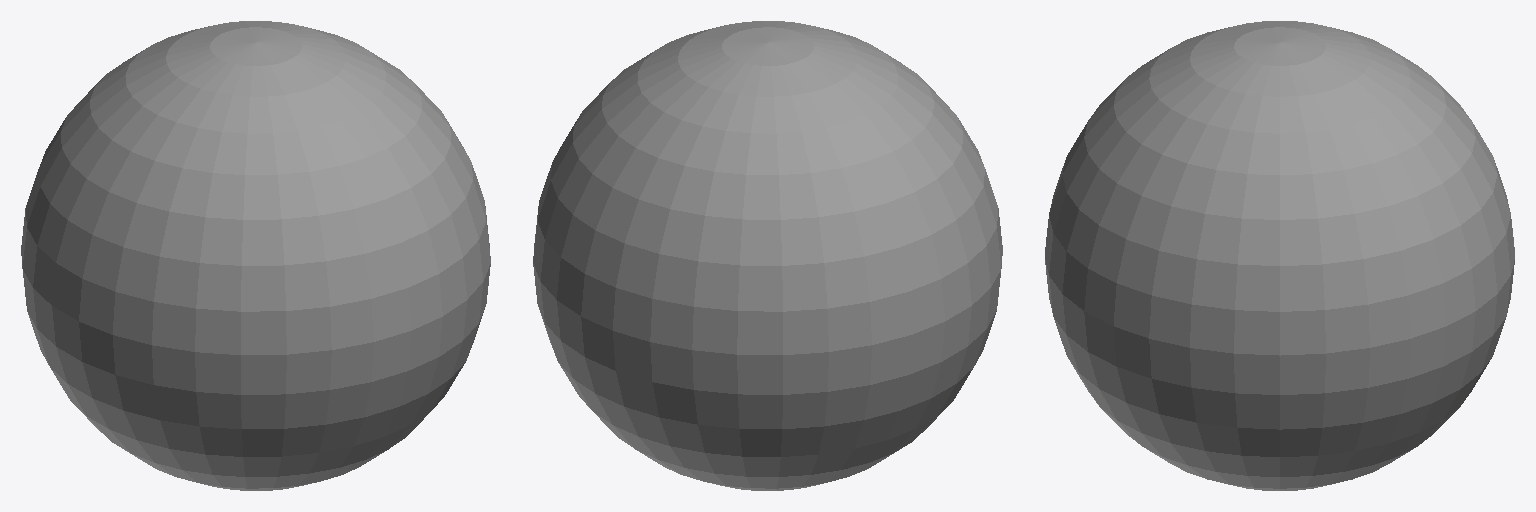
File: mars.obj
3 views of the same model, side by side, from view 1: azimuth 30°, elevation 25°; view 2: azimuth 150°, elevation 25°; view 3: azimuth 270°, elevation 25° (orthographic).
Visible parts, largest first — view 1: Marte_Mesh.001; view 2: Marte_Mesh.001; view 3: Marte_Mesh.001.
Part boxes in pixels (left/top/right/bottom): Marte_Mesh.001: left=21, top=21, right=490, bottom=490; Marte_Mesh.001: left=533, top=21, right=1002, bottom=490; Marte_Mesh.001: left=1045, top=21, right=1514, bottom=490.
Bounding box in the file's own units: 3.04 × 3.04 × 3.04.